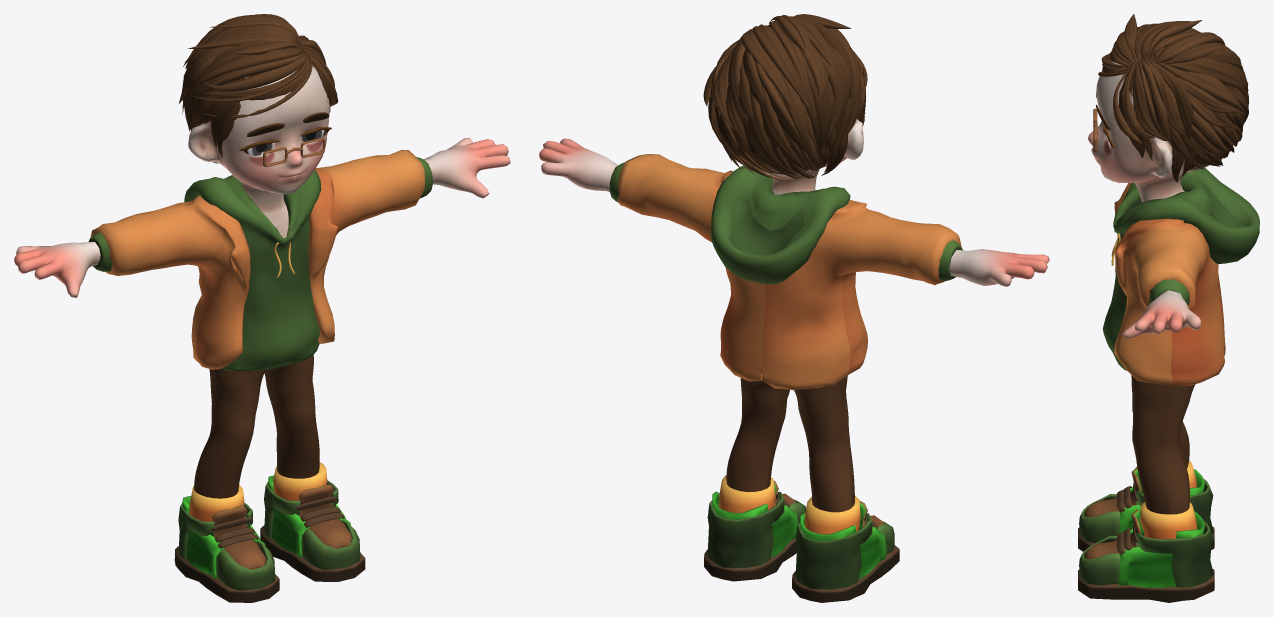
Rendered from prof3_low.fbx.
3 views of the same model, side by side, from view 1: azimuth 30°, elevation 25°; view 2: azimuth 150°, elevation 25°; view 3: azimuth 270°, elevation 25° (orthographic). The views are drawn at different scales.
Parts seen in each view (by area): view 1: prof3.low; view 2: prof3.low; view 3: prof3.low.
Boxes of the visible parts, box(x1,y1,x2,y2) form: prof3.low: box(14, 14, 510, 602); prof3.low: box(539, 14, 1049, 602); prof3.low: box(1078, 14, 1259, 602).
Size of the model in its own units: 226 by 238 by 72.48.
